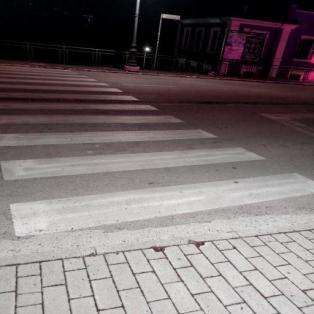Paso de Cebra: (0, 125, 270, 182)
